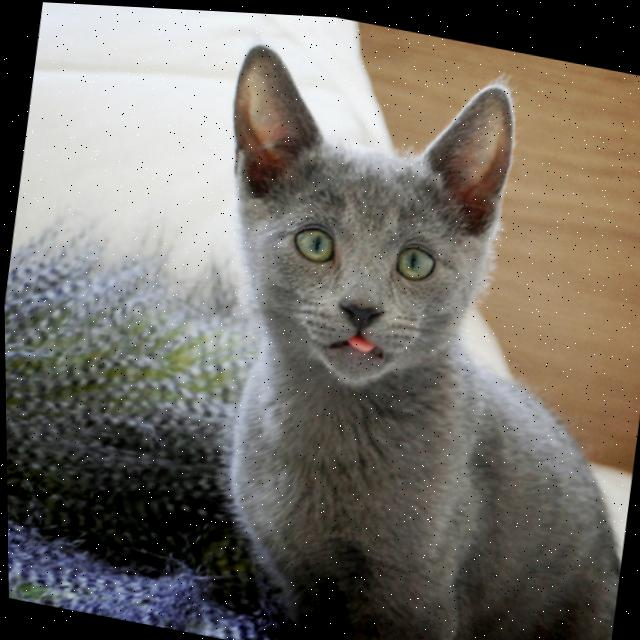Russian Blue: (150, 21, 640, 640)
